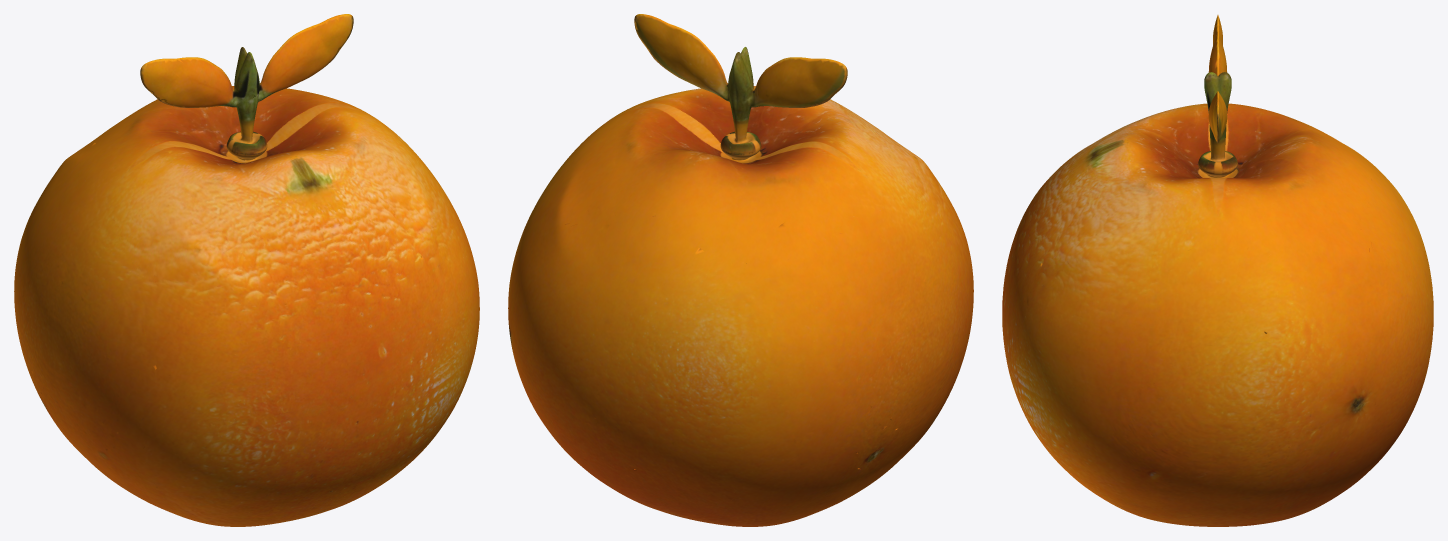
The model's file is orange.glb.
3 renders of one model, left to right at view 1: azimuth 30°, elevation 25°; view 2: azimuth 150°, elevation 25°; view 3: azimuth 270°, elevation 25°, orthographic. The views are drawn at different scales.
Size of the model in its own units: 1.62 by 1.83 by 1.63.
1 material, 1 textured.
